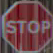Stop: (1, 2, 51, 52)
